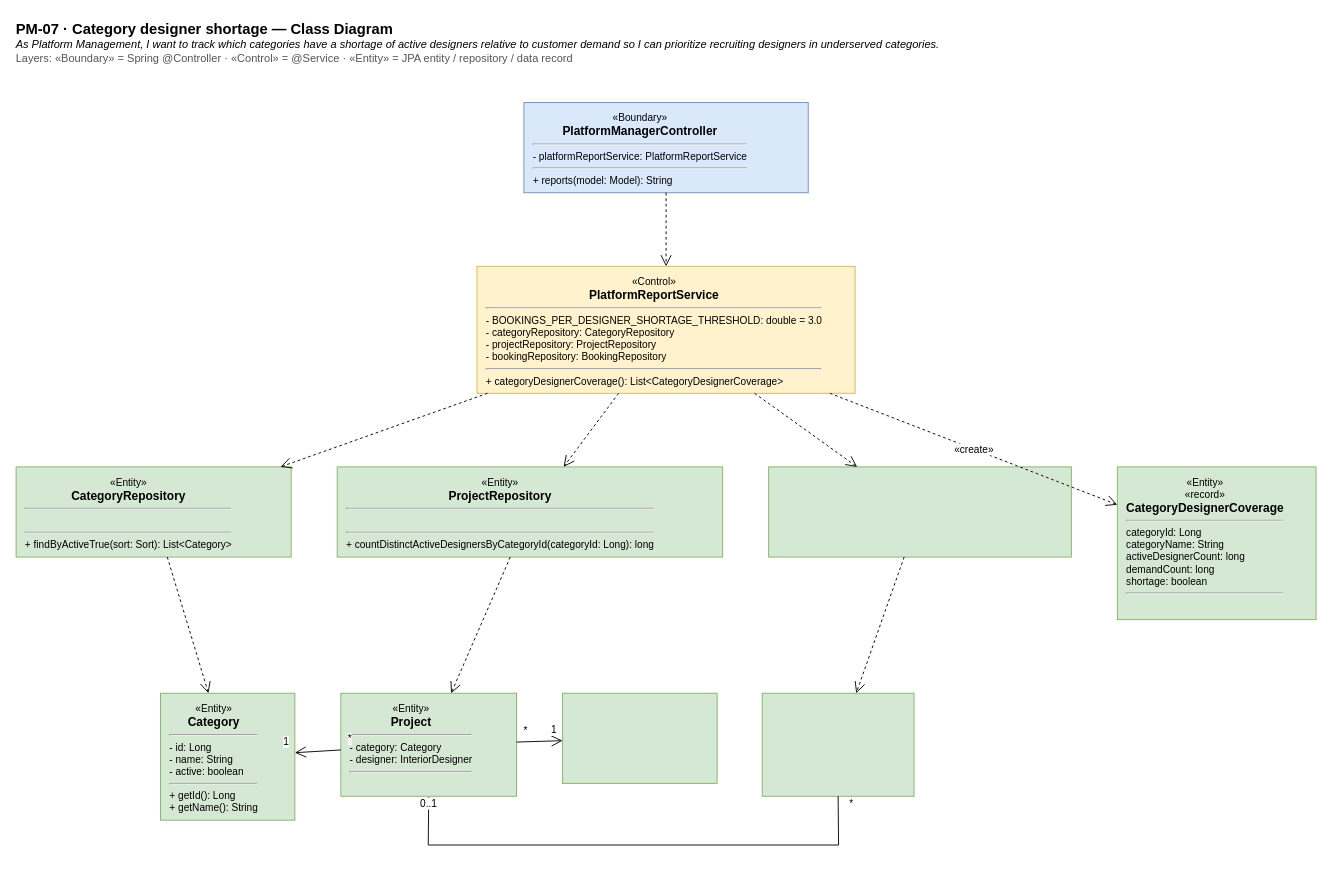
Image size: 1332x872. Some labels were removed from this diagram. Here are the shapes that lost their labels. From the top down, the centre of each, then its label:
the point at 919,511: «Entity» BookingRepository + countByProjectCategoryId(categoryId: Long): long
the point at 639,737: «Entity» InteriorDesigner - status: AccountStatus
the point at 837,744: «Entity» Booking - project: Project - status: BookingStatus
